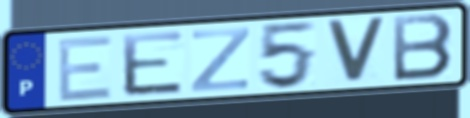5: (256, 19, 320, 91)
B: (390, 12, 456, 84)
E: (119, 28, 187, 99), (55, 32, 115, 104)
V: (322, 16, 389, 86)
Z: (188, 25, 254, 95)
